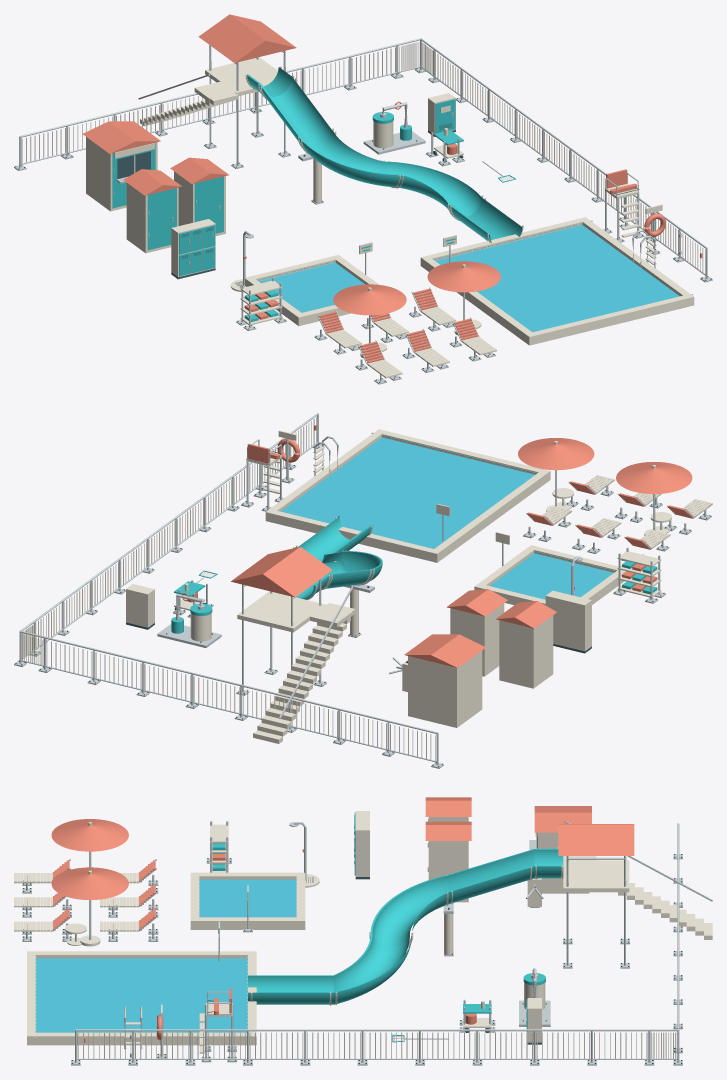
File: waterpark-and-pool-operations-waterpark--8b1c6bbc-starter-scene__28985.glb
3 views of the same model, one above another, from view 1: azimuth 30°, elevation 25°; view 2: azimuth 150°, elevation 25°; view 3: azimuth 270°, elevation 25° (orthographic). The views are drawn at different scales.
Visible parts, largest first — view 1: 006-waterpark-and-pool-operations-rectangular-leisure-pool/1, 006-waterpark-and-pool-operations-rectangular-leisure-pool/0, 000-waterpark-and-pool-operations-access-stair-tower/2, 000-waterpark-and-pool-operations-access-stair-tower/3, 007-waterpark-and-pool-operations-shallow-splash-pool/1, 004-waterpark-and-pool-operations-slide-curve-left-descendin, 002-waterpark-and-pool-operations-slide-straight-descending/, 003-waterpark-and-pool-operations-slide-curve-right-descendi, 029-waterpark-and-pool-operations-ticket-booth/0, 007-waterpark-and-pool-operations-shallow-splash-pool/0, 019-waterpark-and-pool-operations-parasol/2, 021-waterpark-and-pool-operations-parasol/2 (+19 smaller); view 2: 006-waterpark-and-pool-operations-rectangular-leisure-pool/1, 000-waterpark-and-pool-operations-access-stair-tower/2, 006-waterpark-and-pool-operations-rectangular-leisure-pool/0, 029-waterpark-and-pool-operations-ticket-booth/0, 026-waterpark-and-pool-operations-changing-cabin/0, 007-waterpark-and-pool-operations-shallow-splash-pool/1, 000-waterpark-and-pool-operations-access-stair-tower/3, 007-waterpark-and-pool-operations-shallow-splash-pool/0, 024-waterpark-and-pool-operations-locker-bank/1, 027-waterpark-and-pool-operations-changing-cabin/0, 021-waterpark-and-pool-operations-parasol/2, 019-waterpark-and-pool-operations-parasol/2 (+13 smaller); view 3: 006-waterpark-and-pool-operations-rectangular-leisure-pool/1, 006-waterpark-and-pool-operations-rectangular-leisure-pool/0, 007-waterpark-and-pool-operations-shallow-splash-pool/1, 000-waterpark-and-pool-operations-access-stair-tower/2, 007-waterpark-and-pool-operations-shallow-splash-pool/0, 003-waterpark-and-pool-operations-slide-curve-right-descendi, 002-waterpark-and-pool-operations-slide-straight-descending/, 004-waterpark-and-pool-operations-slide-curve-left-descendin, 005-waterpark-and-pool-operations-slide-runout/0, 000-waterpark-and-pool-operations-access-stair-tower/3, 019-waterpark-and-pool-operations-parasol/2, 021-waterpark-and-pool-operations-parasol/2 (+34 smaller).
Boxes of the visible parts, x1=… form: 006-waterpark-and-pool-operations-rectangular-leisure-pool/1: x1=435, y1=225, x2=679, y2=332; 006-waterpark-and-pool-operations-rectangular-leisure-pool/0: x1=420, y1=217, x2=694, y2=345; 000-waterpark-and-pool-operations-access-stair-tower/2: x1=140, y1=57, x2=277, y2=126; 000-waterpark-and-pool-operations-access-stair-tower/3: x1=198, y1=14, x2=296, y2=62; 007-waterpark-and-pool-operations-shallow-splash-pool/1: x1=259, y1=263, x2=364, y2=312; 004-waterpark-and-pool-operations-slide-curve-left-descendin: x1=383, y1=161, x2=481, y2=216; 002-waterpark-and-pool-operations-slide-straight-descending/: x1=260, y1=77, x2=332, y2=150; 003-waterpark-and-pool-operations-slide-curve-right-descendi: x1=300, y1=131, x2=401, y2=186; 029-waterpark-and-pool-operations-ticket-booth/0: x1=86, y1=137, x2=157, y2=211; 007-waterpark-and-pool-operations-shallow-splash-pool/0: x1=245, y1=255, x2=379, y2=325; 019-waterpark-and-pool-operations-parasol/2: x1=333, y1=284, x2=406, y2=315; 021-waterpark-and-pool-operations-parasol/2: x1=427, y1=261, x2=500, y2=292; 006-waterpark-and-pool-operations-rectangular-leisure-pool/1: x1=281, y1=437, x2=534, y2=548; 000-waterpark-and-pool-operations-access-stair-tower/2: x1=237, y1=591, x2=355, y2=743; 006-waterpark-and-pool-operations-rectangular-leisure-pool/0: x1=265, y1=429, x2=550, y2=562; 029-waterpark-and-pool-operations-ticket-booth/0: x1=408, y1=650, x2=482, y2=727; 026-waterpark-and-pool-operations-changing-cabin/0: x1=499, y1=615, x2=553, y2=688; 007-waterpark-and-pool-operations-shallow-splash-pool/1: x1=490, y1=553, x2=613, y2=599; 000-waterpark-and-pool-operations-access-stair-tower/3: x1=231, y1=546, x2=332, y2=597; 007-waterpark-and-pool-operations-shallow-splash-pool/0: x1=474, y1=545, x2=625, y2=605; 024-waterpark-and-pool-operations-locker-bank/1: x1=545, y1=590, x2=591, y2=651; 027-waterpark-and-pool-operations-changing-cabin/0: x1=450, y1=603, x2=504, y2=676; 021-waterpark-and-pool-operations-parasol/2: x1=518, y1=438, x2=594, y2=470; 019-waterpark-and-pool-operations-parasol/2: x1=616, y1=462, x2=692, y2=493; 006-waterpark-and-pool-operations-rectangular-leisure-pool/1: x1=36, y1=958, x2=247, y2=1032; 006-waterpark-and-pool-operations-rectangular-leisure-pool/0: x1=27, y1=951, x2=256, y2=1045; 007-waterpark-and-pool-operations-shallow-splash-pool/1: x1=199, y1=879, x2=296, y2=917; 000-waterpark-and-pool-operations-access-stair-tower/2: x1=557, y1=847, x2=712, y2=939; 007-waterpark-and-pool-operations-shallow-splash-pool/0: x1=190, y1=872, x2=305, y2=929; 003-waterpark-and-pool-operations-slide-curve-right-descendi: x1=370, y1=875, x2=448, y2=950; 002-waterpark-and-pool-operations-slide-straight-descending/: x1=448, y1=849, x2=534, y2=903; 004-waterpark-and-pool-operations-slide-curve-left-descendin: x1=334, y1=933, x2=411, y2=1004; 005-waterpark-and-pool-operations-slide-runout/0: x1=248, y1=975, x2=333, y2=1004; 000-waterpark-and-pool-operations-access-stair-tower/3: x1=558, y1=824, x2=634, y2=855; 019-waterpark-and-pool-operations-parasol/2: x1=51, y1=819, x2=128, y2=851; 021-waterpark-and-pool-operations-parasol/2: x1=51, y1=867, x2=128, y2=899.
Size of the model in its own units: 17.34 by 5.04 by 24.37.
